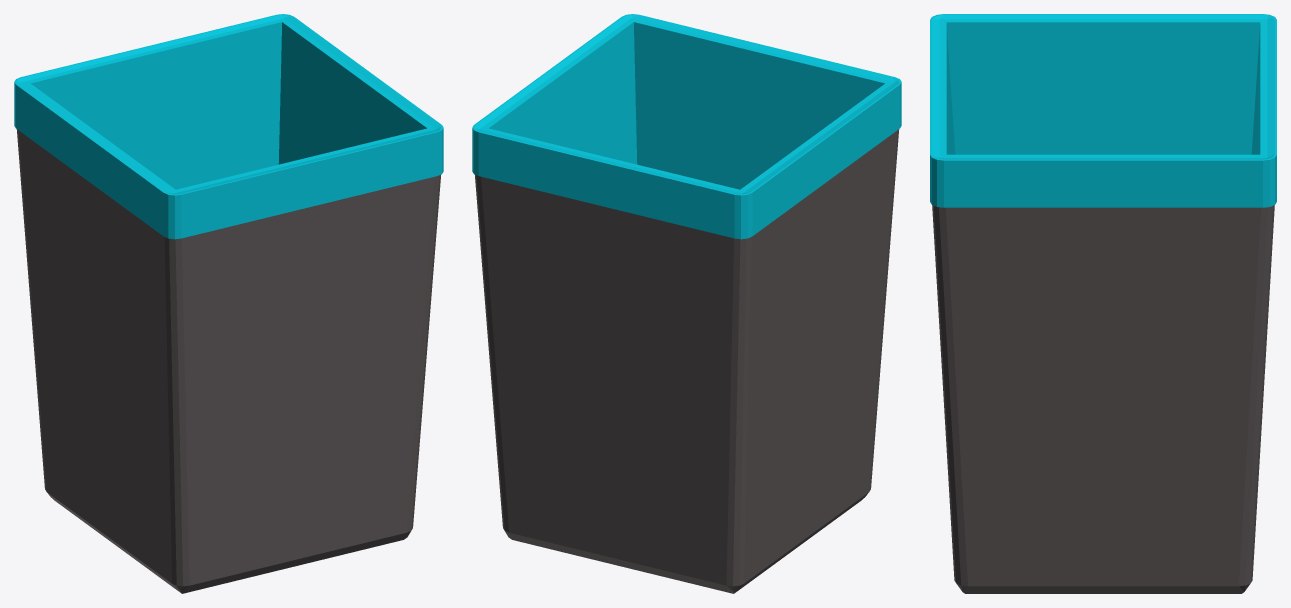
File: bin.fbx
The picture shows the model from 3 angles, left to right: view 1: azimuth 30°, elevation 25°; view 2: azimuth 150°, elevation 25°; view 3: azimuth 270°, elevation 25°; orthographic projection. The views are drawn at different scales.
Parts seen in each view (by area): view 1: Cube; view 2: Cube; view 3: Cube.
Boxes of the visible parts, x1,y1,x2,y2 form: Cube: (14,14,443,593); Cube: (472,14,901,593); Cube: (930,14,1276,593).
Size of the model in its own units: 607 by 865 by 607.
